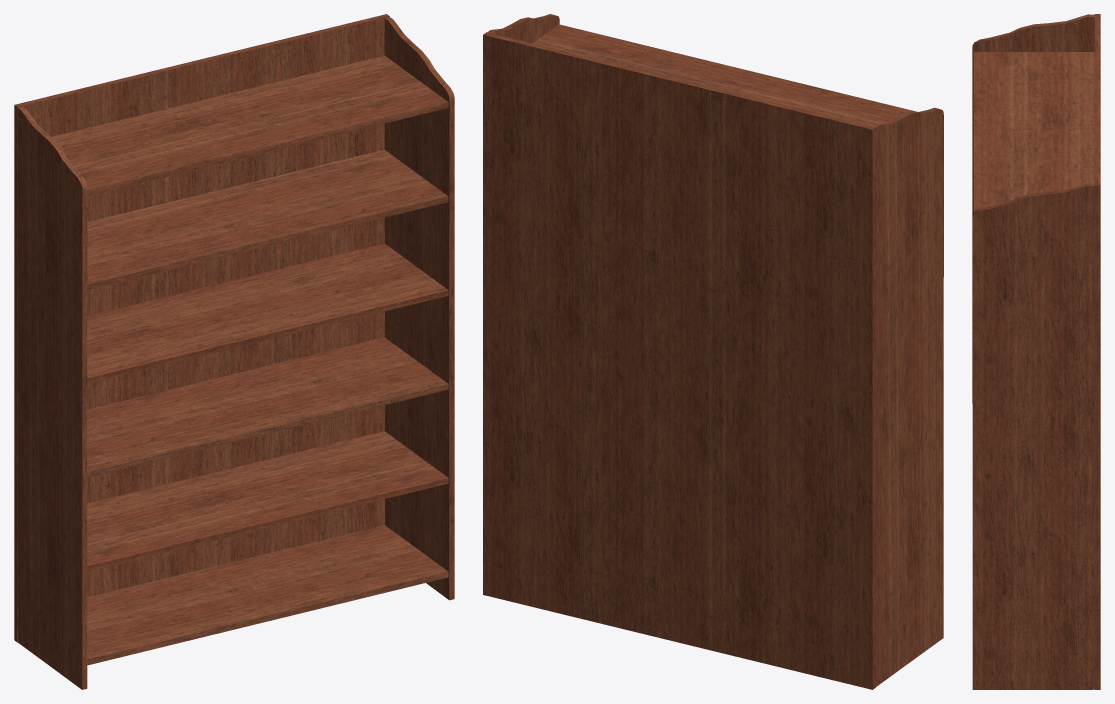
File: SM_BookCase_b_001.fbx
3 views of the same model, side by side, from view 1: azimuth 30°, elevation 25°; view 2: azimuth 150°, elevation 25°; view 3: azimuth 270°, elevation 25° (orthographic). The views are drawn at different scales.
Visible parts, largest first — view 1: SM_BookCase_b_001; view 2: SM_BookCase_b_001; view 3: SM_BookCase_b_001.
Boxes of the visible parts, box(x1,y1,x2,y2) form: SM_BookCase_b_001: box(14, 14, 454, 689); SM_BookCase_b_001: box(483, 14, 943, 689); SM_BookCase_b_001: box(972, 14, 1100, 689).
Bounding box in the file's own units: 125 × 171 × 39.4.
